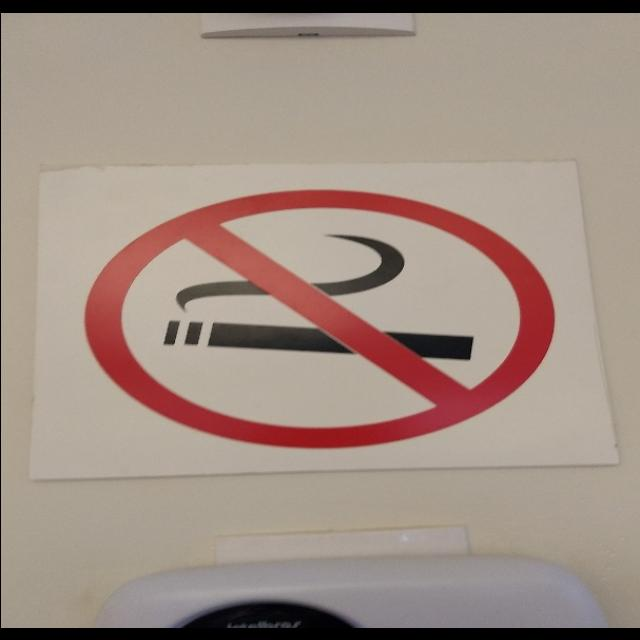cam hut thuoc: (84, 189, 553, 447)
